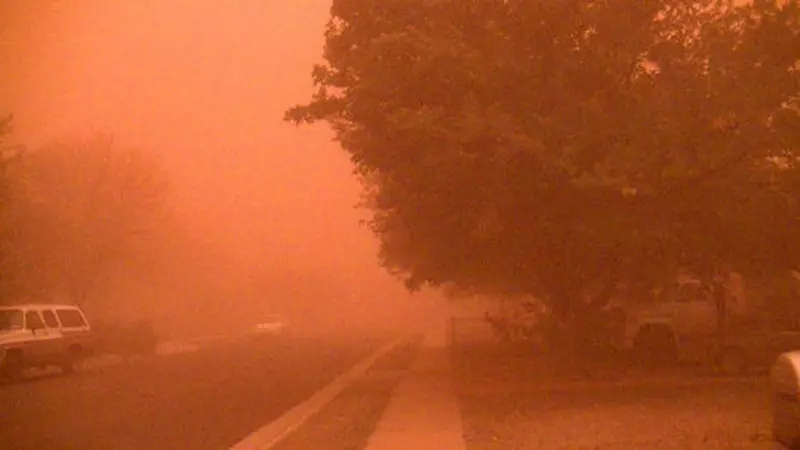car: (1, 303, 97, 382), (711, 313, 799, 375), (249, 312, 284, 337)
truck: (610, 265, 799, 363)
